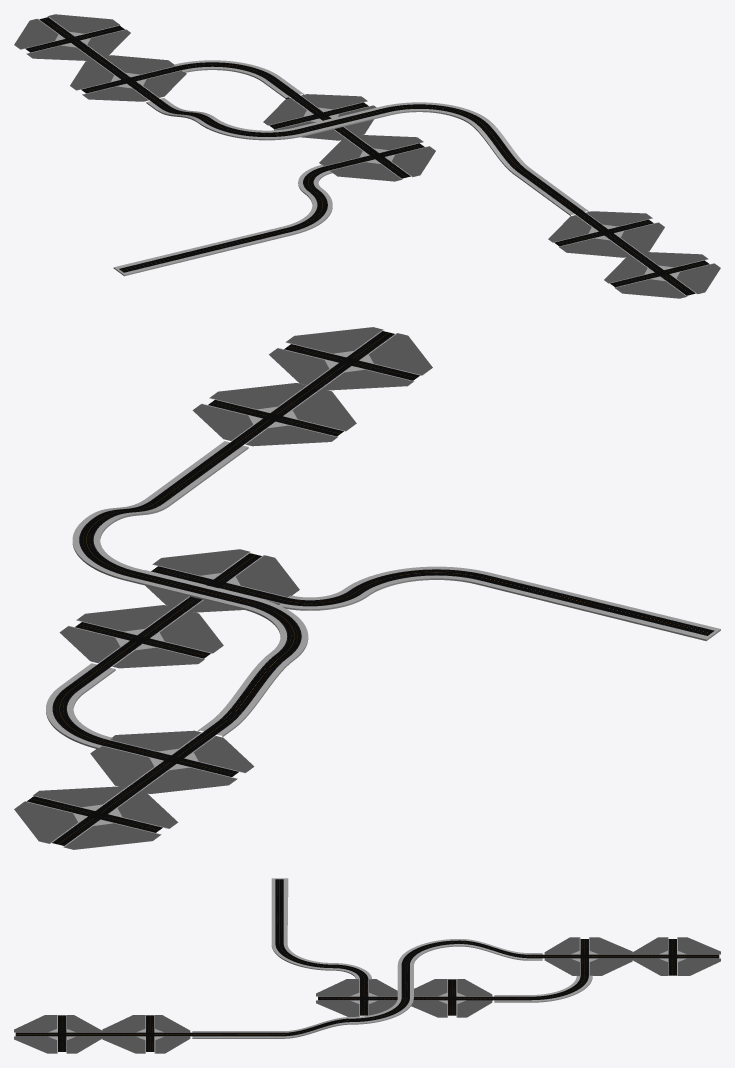
File: race10.fbx
3 renders of one model, top to bottom at view 1: azimuth 30°, elevation 25°; view 2: azimuth 150°, elevation 25°; view 3: azimuth 270°, elevation 25°, orthographic. The views are drawn at different scales.
Visible parts, largest first — view 1: polySurface92; view 2: polySurface92; view 3: polySurface92.
Part boxes in pixels (<box>): polySurface92: <box>14,14,720,298</box>; polySurface92: <box>14,327,720,849</box>; polySurface92: <box>14,878,720,1053</box>.
Bounding box in the file's own units: 77535 × 3125 × 132165.
